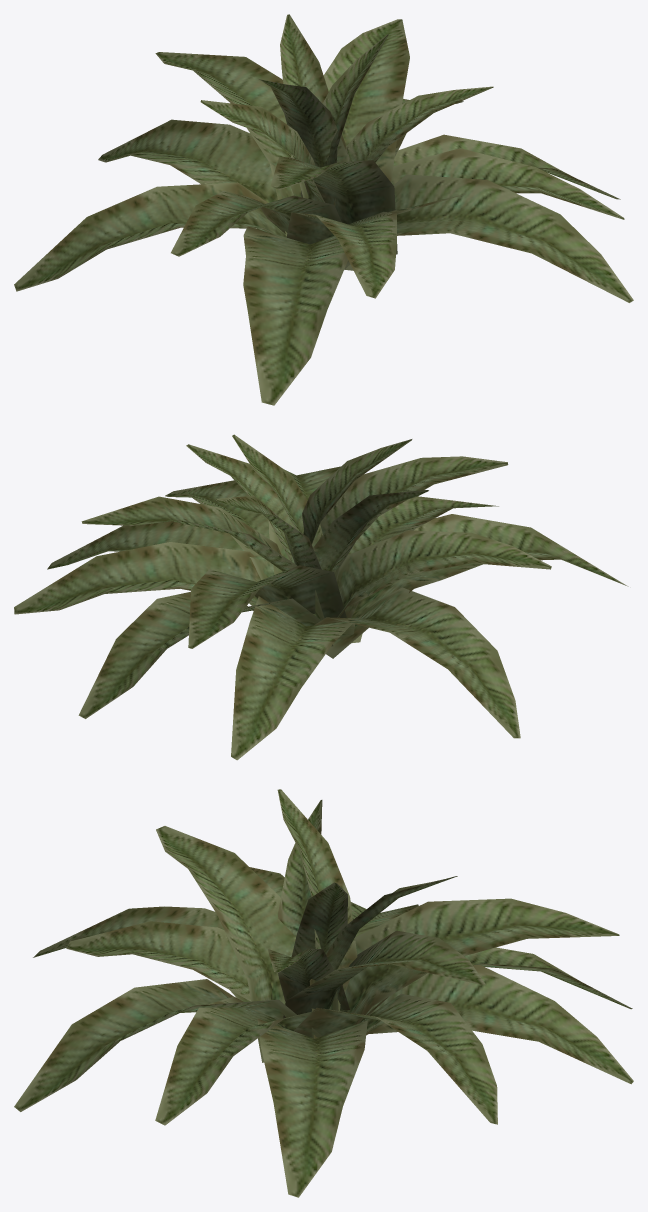
Rendered from Model_Plant_18.fbx.
The picture shows the model from 3 angles, top to bottom: view 1: azimuth 30°, elevation 25°; view 2: azimuth 150°, elevation 25°; view 3: azimuth 270°, elevation 25°; orthographic projection. The views are drawn at different scales.
Parts seen in each view (by area): view 1: Plant_03; view 2: Plant_03; view 3: Plant_03.
Boxes of the visible parts, <box> form: Plant_03: <box>14,14,633,405</box>; Plant_03: <box>14,434,628,760</box>; Plant_03: <box>14,789,633,1197</box>.
Bounding box in the file's own units: 198 × 76.84 × 189.
